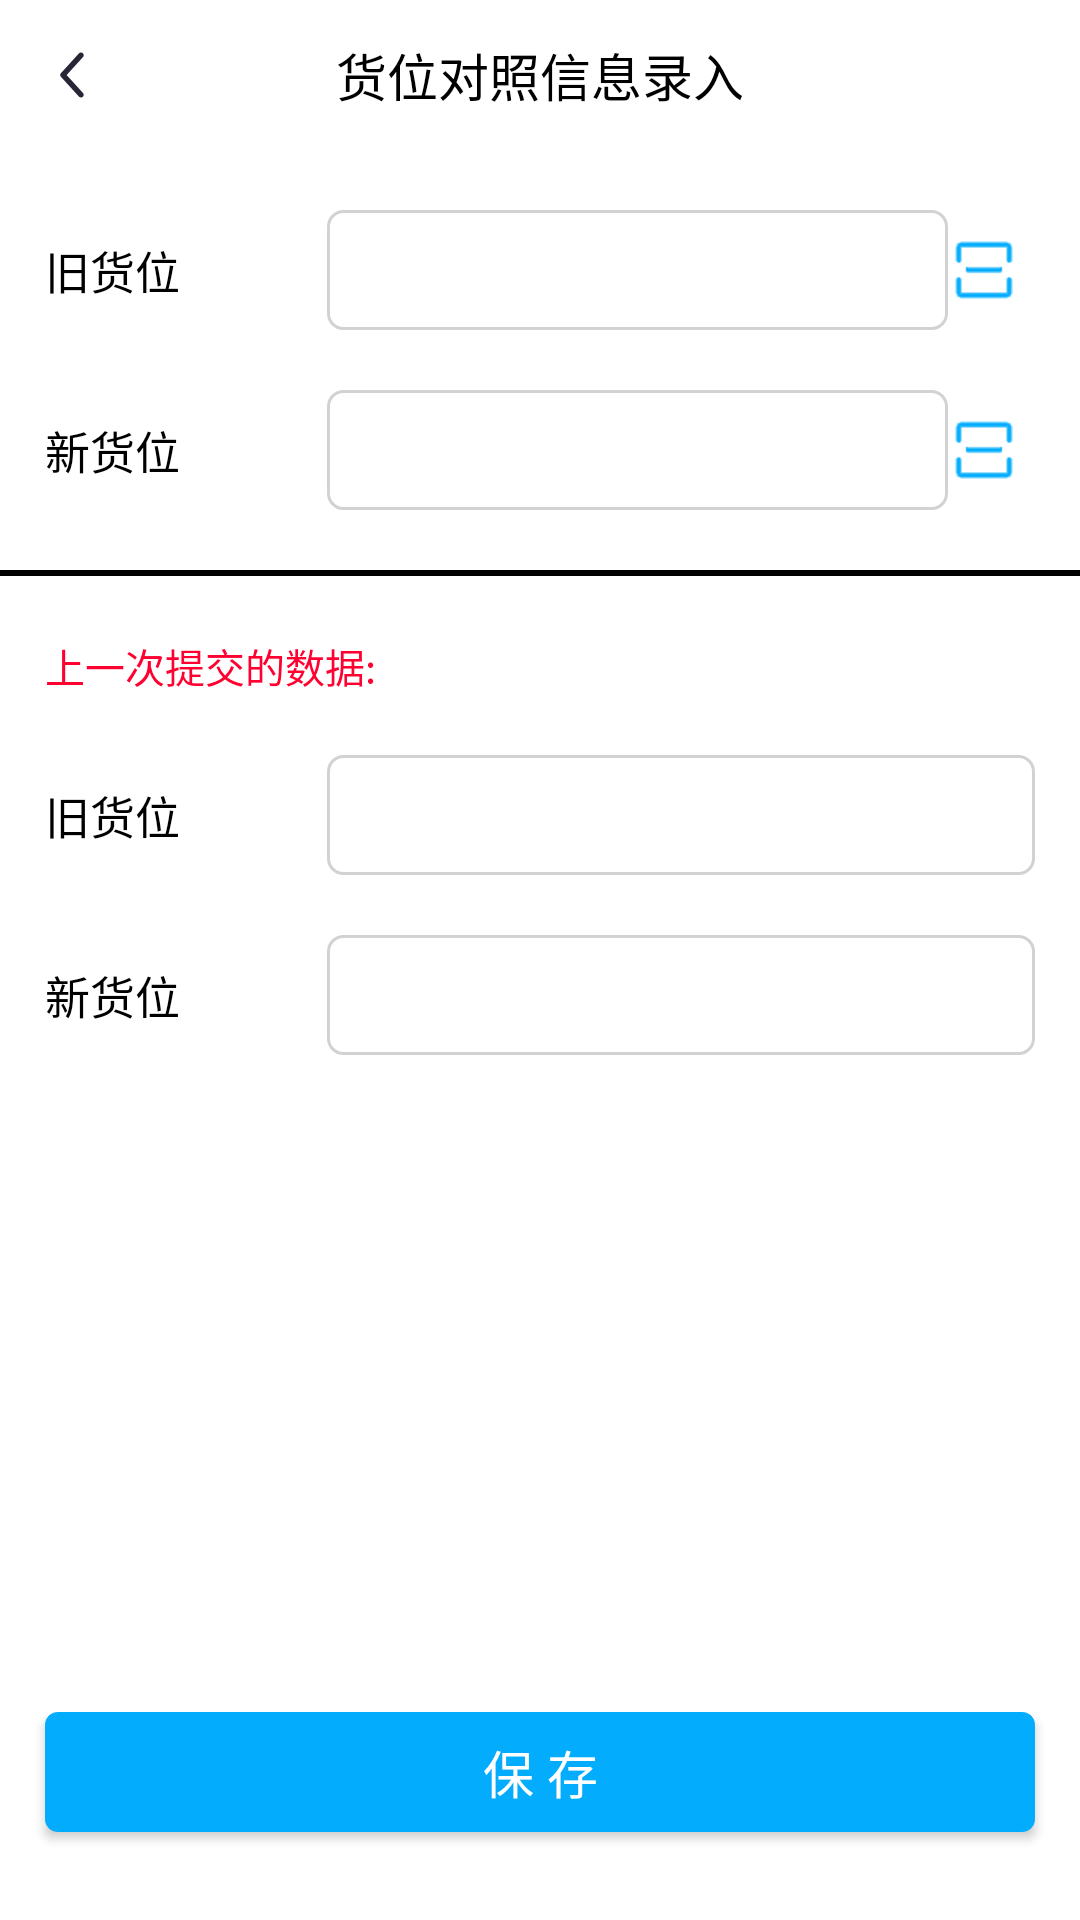

Locate icon controls on the screen. Image size 1080px×1920px, boxes as (x1, y1, x2, y2).
back: (60, 52, 84, 98)
scan: (955, 241, 1013, 299), (955, 421, 1013, 479)
